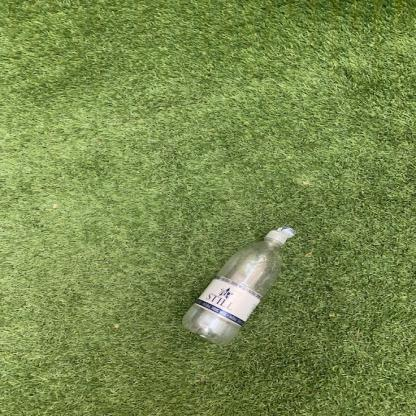trash: (181, 225, 296, 346)
